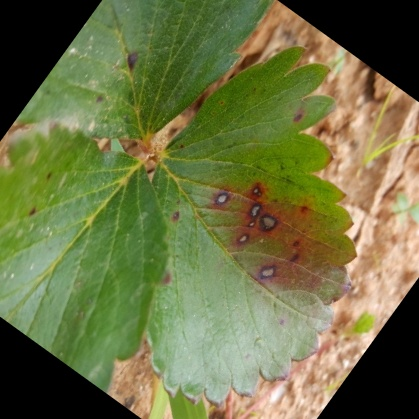Leaf_Spot: (140, 23, 381, 386), (0, 161, 235, 418), (0, 0, 151, 257)
